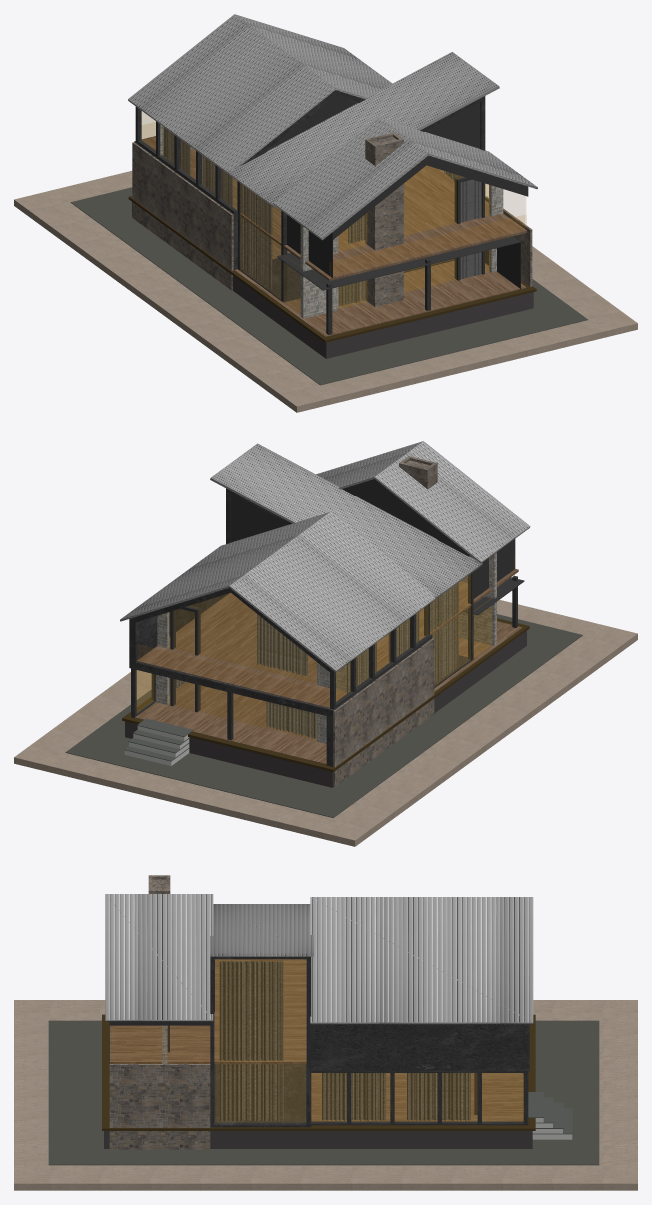
File: hotel-villa.glb
3 views of the same model, one above another, from view 1: azimuth 30°, elevation 25°; view 2: azimuth 150°, elevation 25°; view 3: azimuth 270°, elevation 25° (orthographic). The views are drawn at different scales.
Parts seen in each view (by area): view 1: Object012_Metal_0, Box053_Material #0_0, Box060_Solid Glass_0, Box091_13 - Brushed Metal #2_0, Box055_Material #4_0, Box059_Material #3_0, Box067_14 - Polished Aluminum_0, Line118_23 - Default_0, Box056_01 - Default_0, Box061_16 - Matte Plastic_0; view 2: Object012_Metal_0, Box053_Material #0_0, Box060_Solid Glass_0, Box067_14 - Polished Aluminum_0, Box091_13 - Brushed Metal #2_0, Box055_Material #4_0, Box059_Material #3_0, Line118_23 - Default_0, Box061_16 - Matte Plastic_0, Box056_01 - Default_0; view 3: Object012_Metal_0, Box060_Solid Glass_0, Box053_Material #0_0, Box067_14 - Polished Aluminum_0, Box055_Material #4_0, Line118_23 - Default_0, Box091_13 - Brushed Metal #2_0, Box059_Material #3_0, Box056_01 - Default_0.
Boxes of the visible parts, x1,y1,x2,y2 form: Object012_Metal_0: (128, 14, 537, 240); Box053_Material #0_0: (14, 171, 637, 412); Box060_Solid Glass_0: (70, 187, 587, 385); Box091_13 - Brushed Metal #2_0: (142, 137, 526, 336); Box055_Material #4_0: (134, 90, 528, 334); Box059_Material #3_0: (132, 132, 532, 307); Box067_14 - Polished Aluminum_0: (142, 111, 489, 313); Line118_23 - Default_0: (163, 127, 481, 306); Box056_01 - Default_0: (333, 190, 526, 275); Box061_16 - Matte Plastic_0: (160, 124, 503, 318); Object012_Metal_0: (120, 441, 530, 672); Box053_Material #0_0: (14, 600, 637, 846); Box060_Solid Glass_0: (65, 614, 582, 817); Box067_14 - Polished Aluminum_0: (137, 574, 491, 739); Box091_13 - Brushed Metal #2_0: (135, 569, 522, 764); Box055_Material #4_0: (129, 479, 524, 766); Box059_Material #3_0: (333, 456, 437, 786); Line118_23 - Default_0: (169, 583, 458, 738); Box061_16 - Matte Plastic_0: (155, 552, 496, 743); Box056_01 - Default_0: (139, 645, 329, 705); Object012_Metal_0: (105, 894, 533, 1024); Box060_Solid Glass_0: (48, 1014, 599, 1165); Box053_Material #0_0: (14, 1000, 637, 1190); Box067_14 - Polished Aluminum_0: (215, 959, 523, 1122); Box055_Material #4_0: (109, 956, 529, 1127); Line118_23 - Default_0: (219, 960, 470, 1121); Box091_13 - Brushed Metal #2_0: (110, 959, 523, 1121); Box059_Material #3_0: (109, 875, 210, 1149); Box056_01 - Default_0: (114, 1026, 209, 1063).
Size of the model in its own units: 17.29 by 9.23 by 24.83.
10 materials, 10 textured.
